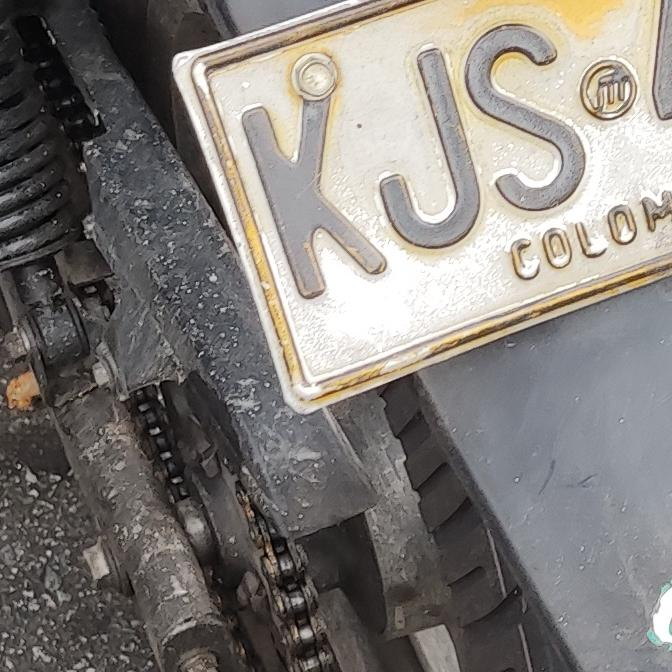plates: (176, 0, 672, 404)
